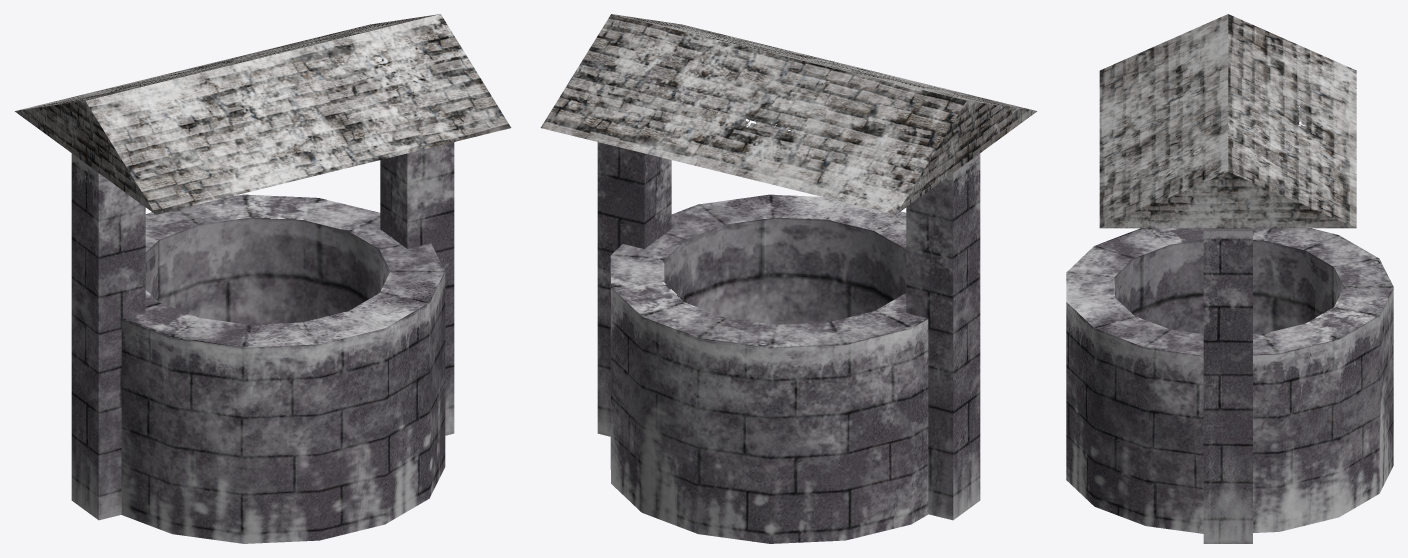
The model's file is SM_Well_Snowy.fbx.
3 renders of one model, left to right at view 1: azimuth 30°, elevation 25°; view 2: azimuth 150°, elevation 25°; view 3: azimuth 270°, elevation 25°, orthographic. The views are drawn at different scales.
Visible parts, largest first — view 1: polySurface9; view 2: polySurface9; view 3: polySurface9.
Boxes of the visible parts, x1,y1,x2,y2 form: polySurface9: [15, 14, 511, 543]; polySurface9: [540, 14, 1036, 543]; polySurface9: [1066, 14, 1393, 543].
Bounding box in the file's own units: 464 × 511 × 407.
